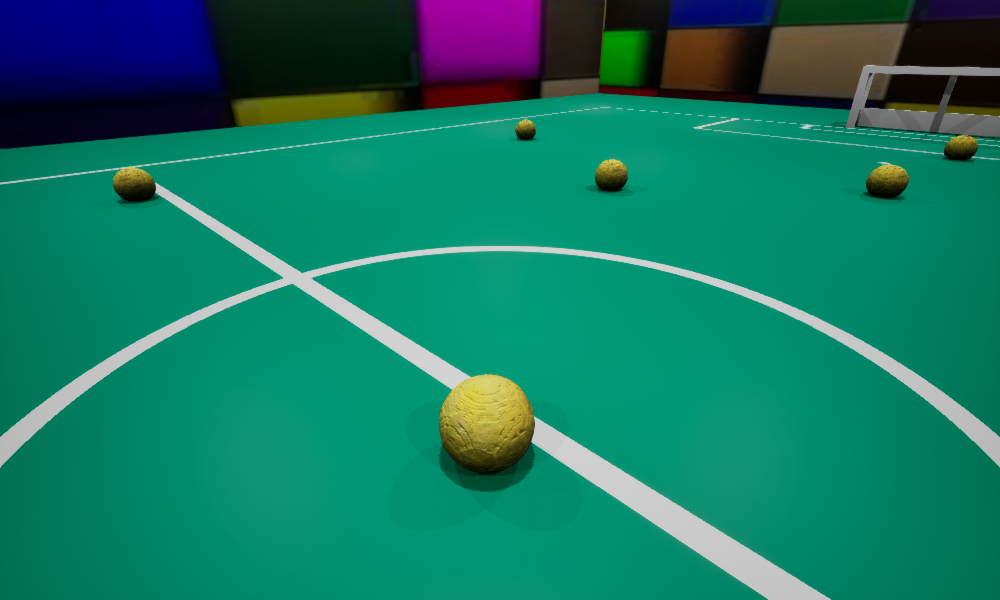b: (439, 374, 534, 472), (112, 167, 155, 201), (866, 164, 908, 197), (595, 159, 627, 190), (944, 135, 977, 159), (515, 119, 535, 139)
g: (845, 65, 999, 136)
